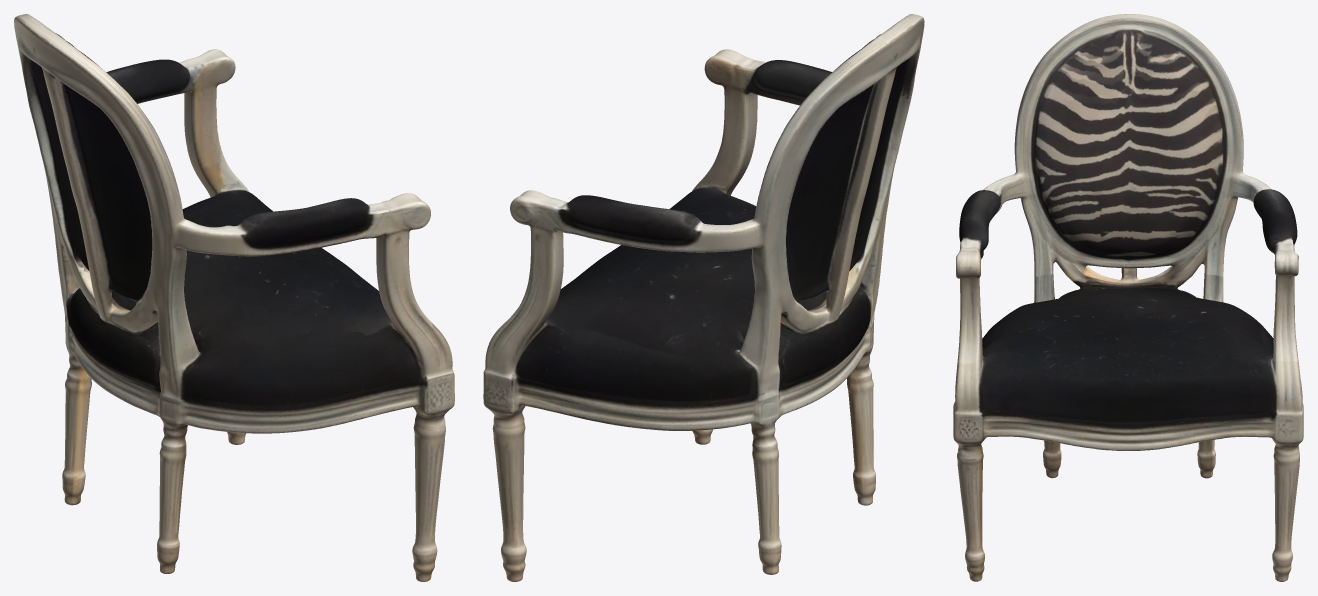
File: 3Dzebre.glb
3 renders of one model, left to right at view 1: azimuth 30°, elevation 25°; view 2: azimuth 150°, elevation 25°; view 3: azimuth 270°, elevation 25°, orthographic. The views are drawn at different scales.
Visible parts, largest first — view 1: tripo_node_30e63e07-3a32-4b3b-a620-a1ff116fb2c6; view 2: tripo_node_30e63e07-3a32-4b3b-a620-a1ff116fb2c6; view 3: tripo_node_30e63e07-3a32-4b3b-a620-a1ff116fb2c6.
Boxes of the visible parts, box(x1,y1,x2,y2) form: tripo_node_30e63e07-3a32-4b3b-a620-a1ff116fb2c6: box(14, 14, 454, 581); tripo_node_30e63e07-3a32-4b3b-a620-a1ff116fb2c6: box(483, 14, 924, 581); tripo_node_30e63e07-3a32-4b3b-a620-a1ff116fb2c6: box(953, 14, 1303, 581).
Bounding box in the file's own units: 0.567 × 0.9473 × 0.669.
1 material, 1 textured.
